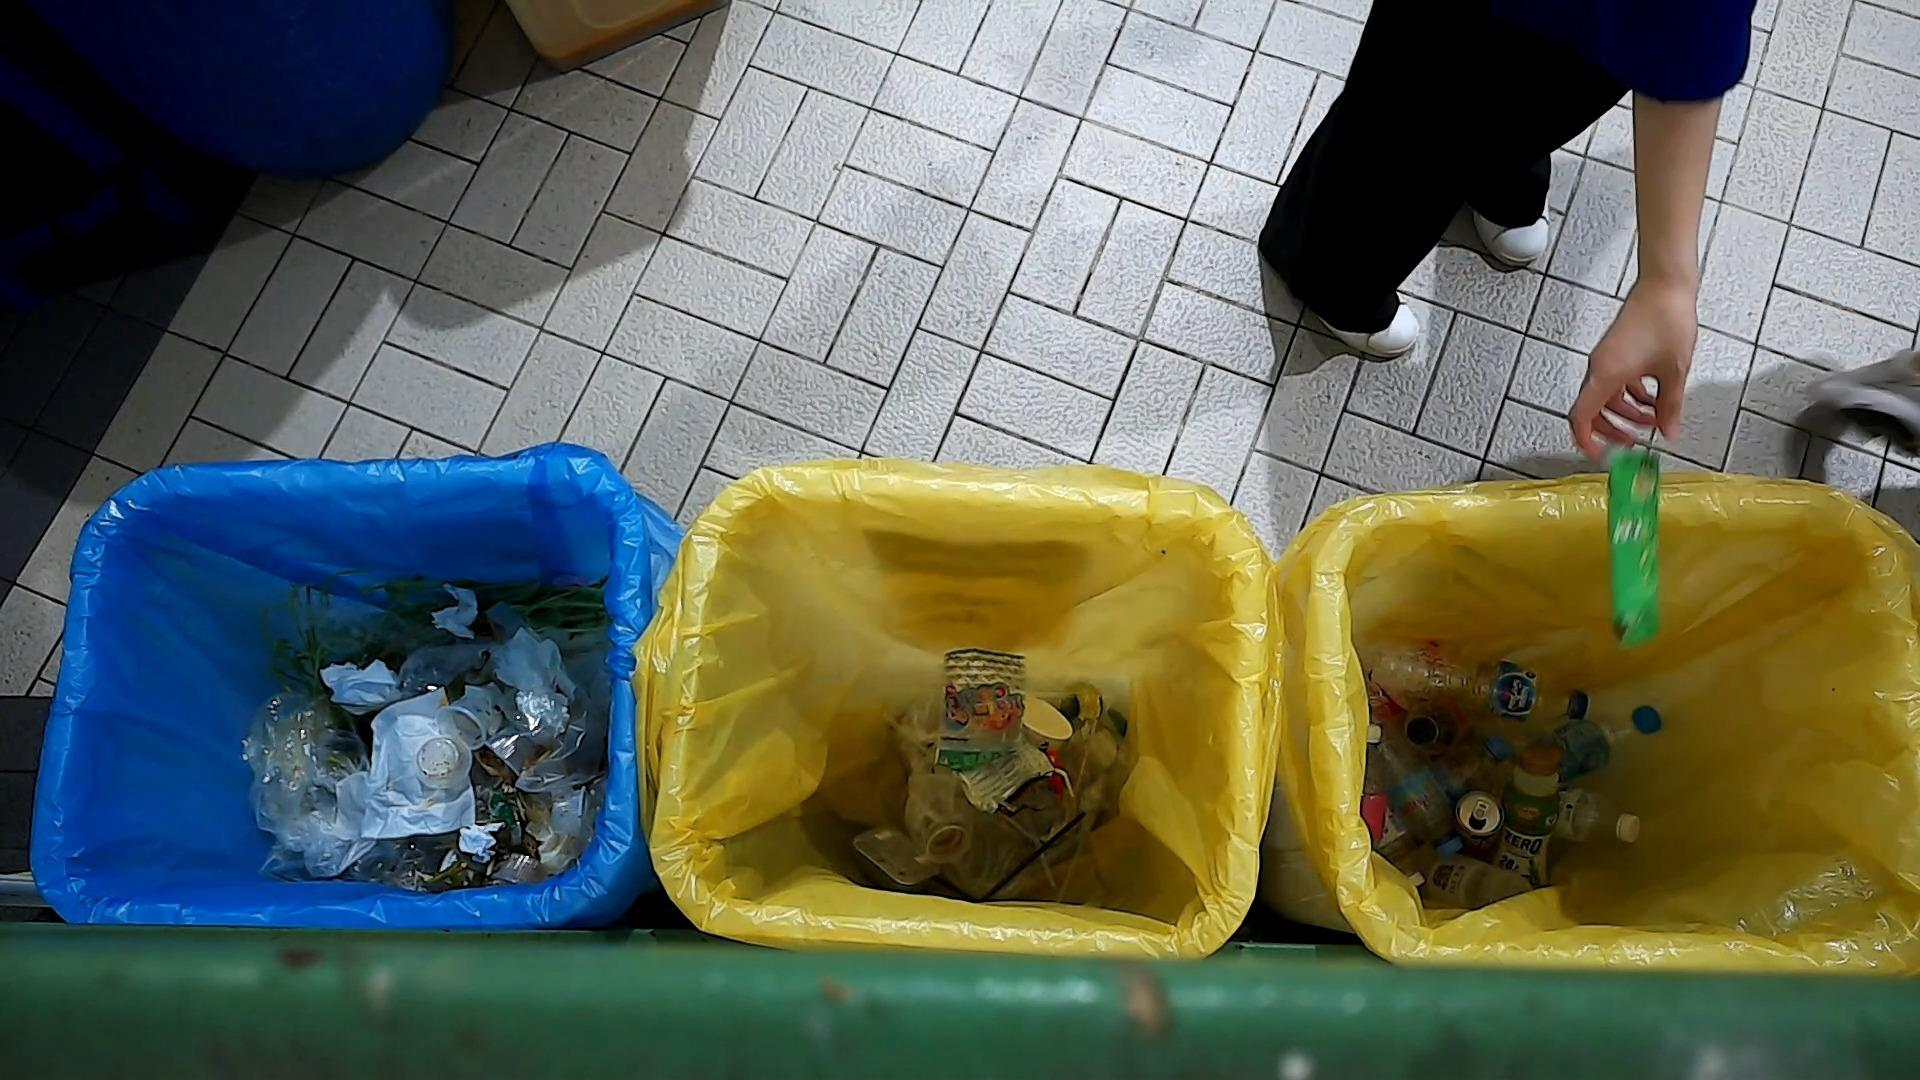can: (1451, 789, 1507, 856)
food container: (848, 824, 942, 891), (430, 695, 502, 752), (414, 736, 475, 791), (550, 782, 593, 840), (924, 822, 973, 868)
plastic bag: (240, 712, 376, 880)
plastic bottle: (1370, 636, 1590, 729), (1367, 723, 1472, 860), (1527, 700, 1665, 782), (1499, 746, 1565, 887)
plastic cup: (1407, 843, 1532, 910)
snack packaging: (1598, 442, 1675, 646), (932, 645, 1035, 766)
straw: (978, 804, 1089, 902)
tissue paper: (357, 688, 479, 837), (491, 626, 575, 703), (319, 658, 404, 715), (430, 582, 480, 640), (458, 825, 497, 858)
